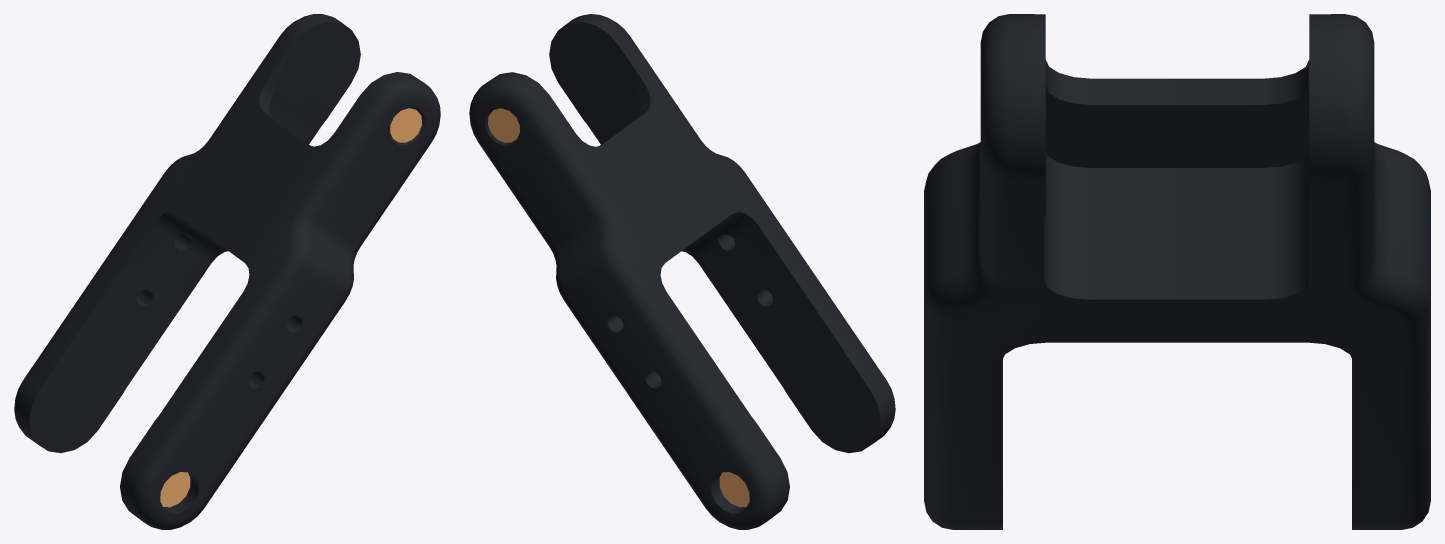
Rendered from left_inner_knuckle.dae.
3 renders of one model, left to right at view 1: azimuth 30°, elevation 25°; view 2: azimuth 150°, elevation 25°; view 3: azimuth 270°, elevation 25°, orthographic. The views are drawn at different scales.
Visible parts, largest first — view 1: left_inner_knuckle; view 2: left_inner_knuckle; view 3: left_inner_knuckle.
Boxes of the visible parts, box(x1,y1,x2,y2) form: left_inner_knuckle: box(14, 14, 440, 529); left_inner_knuckle: box(469, 14, 895, 529); left_inner_knuckle: box(924, 14, 1430, 529).
Size of the model in its own units: 0.0492 by 0.035 by 0.0554.
